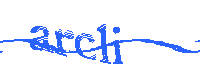a: (29, 21, 50, 54)
c: (73, 31, 97, 61)
i: (111, 26, 125, 67)
l: (96, 23, 112, 67)
r: (53, 24, 74, 60)
